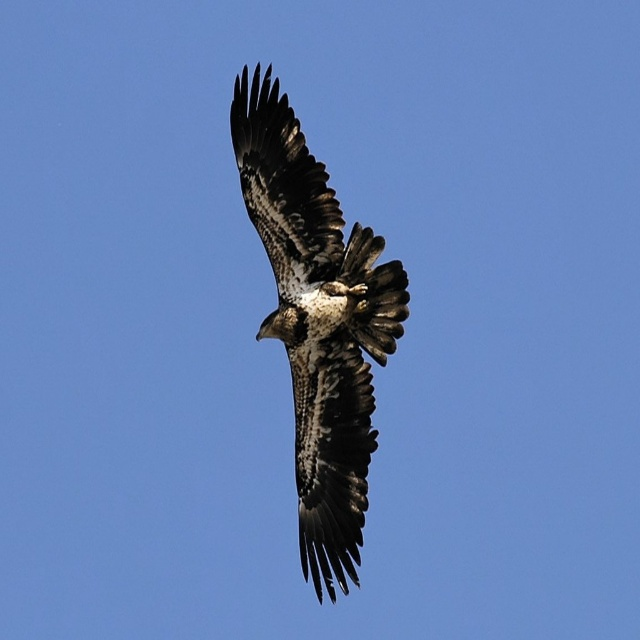Eagle: (229, 59, 414, 611)
